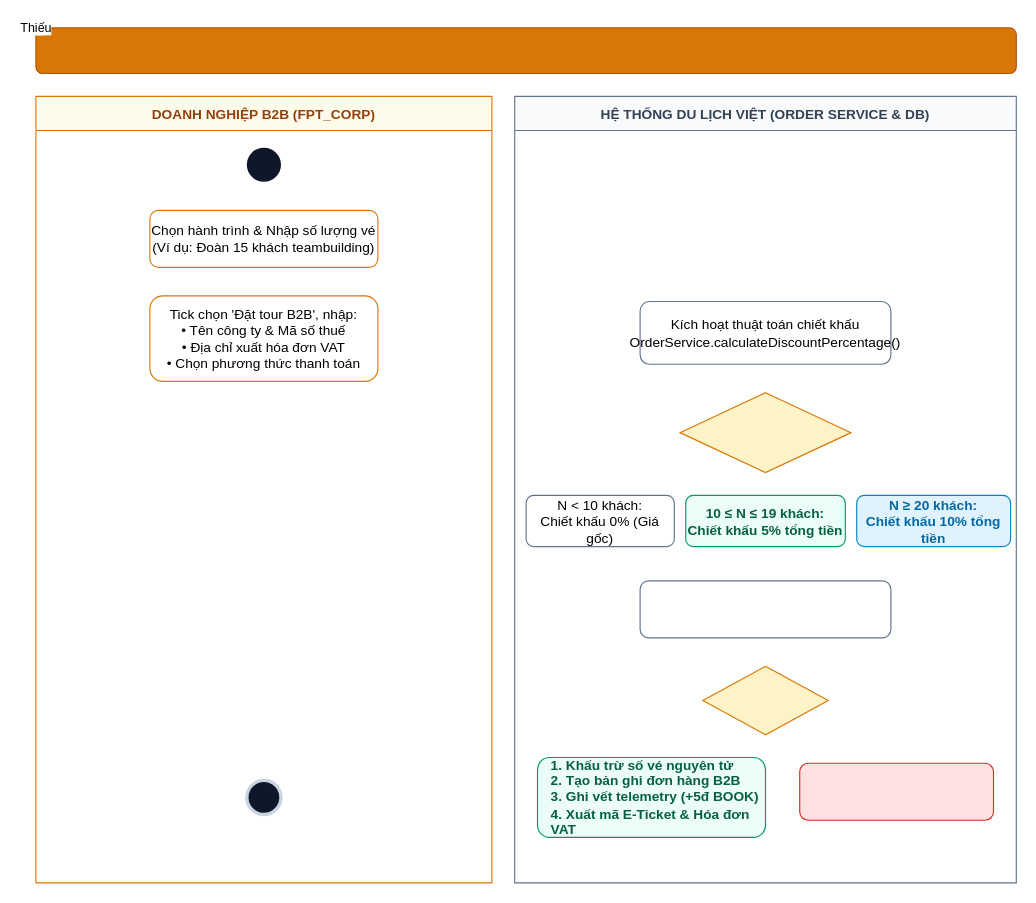
This 1036x903 diagram has some shape labels left out. The shapes that lost their labels are listed below. From the top down, each one's centre as x and y in pixels, then its label:
At point 525,50: "SƠ ĐỒ ACTIVITY: ĐẶT TOUR ĐOÀN B2B VÀ TÍNH CHIẾT KHẤU BẬC THANG (UC02)".
At point 765,432: "Số khách (N) thuộc bậc nào?".
At point 765,609: "Giữ khóa bi quan @Lock PESSIMISTIC_WRITE và kiểm tra số chỗ trống khả dụng".
At point 765,700: "Đủ chỗ trống?".
At point 896,791: "Ném OverbookingException Thông báo tour không đủ số chỗ".
